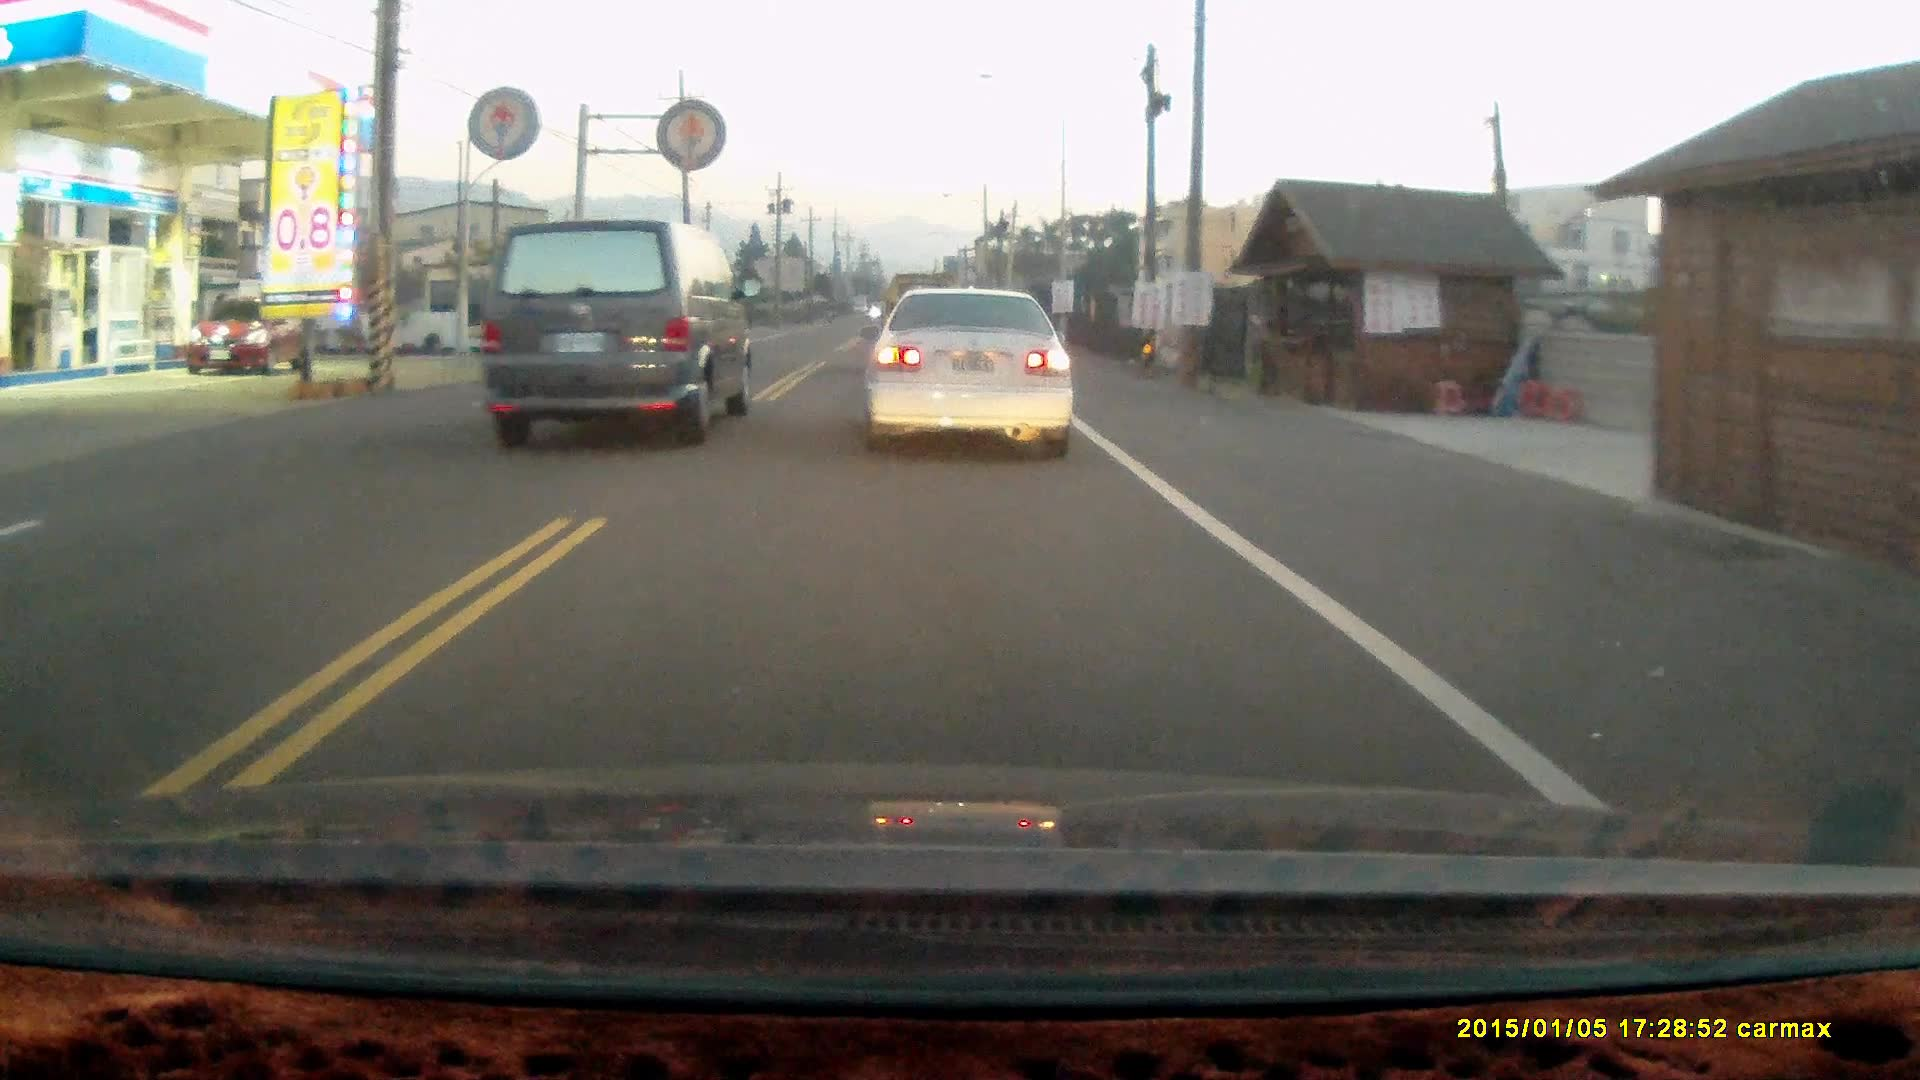vehicle: (476, 218, 753, 444), (862, 284, 1087, 463), (189, 294, 299, 378)
